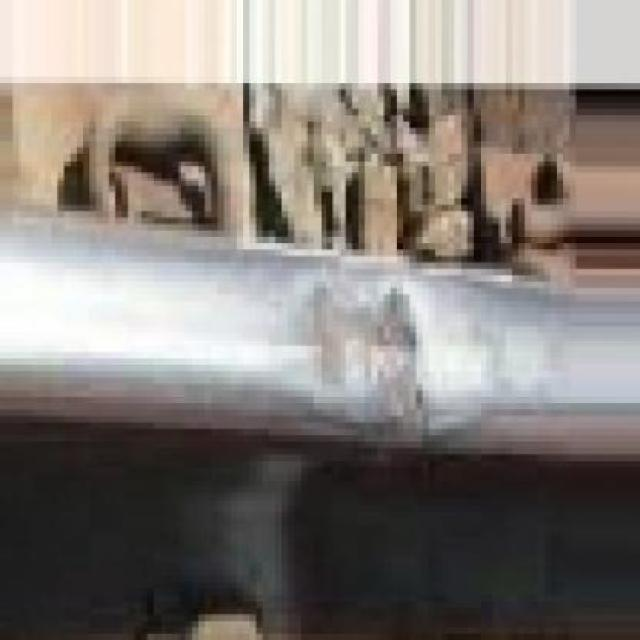defective: (246, 228, 590, 503)
